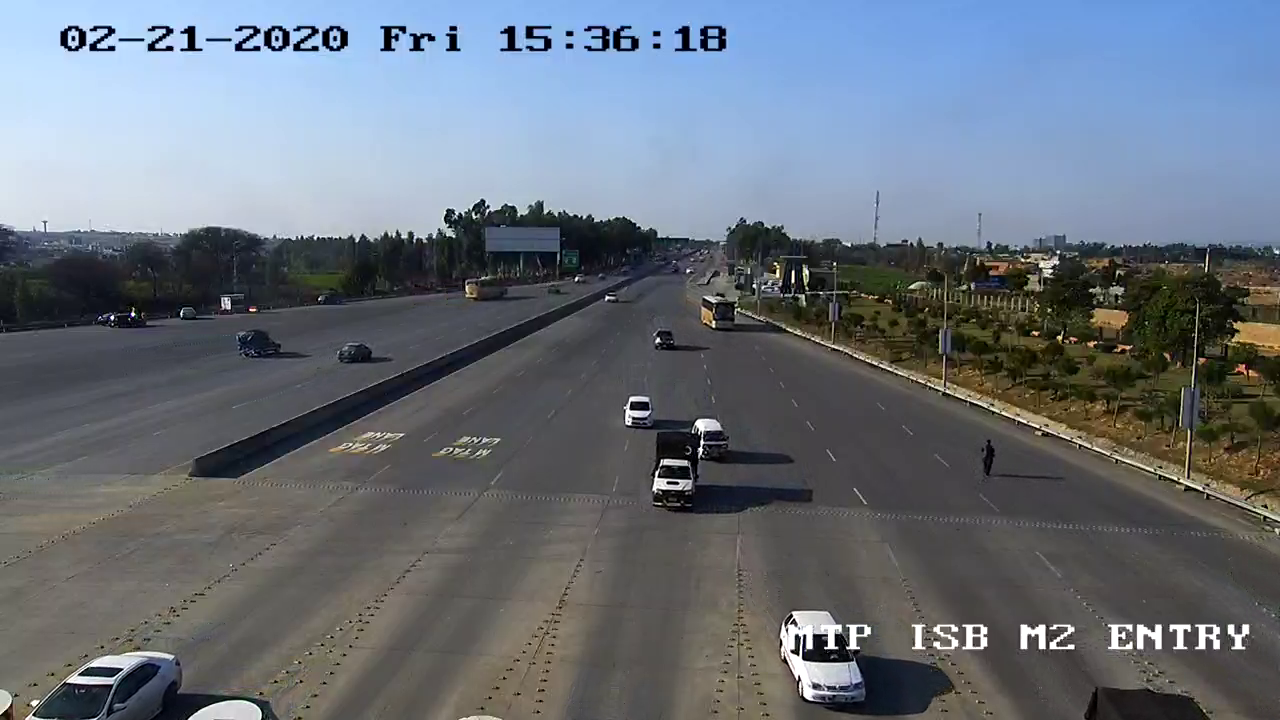f1: (635, 421, 714, 528)
